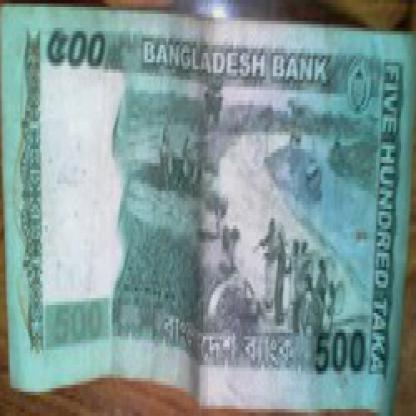500 taka: (27, 35, 118, 90), (313, 322, 371, 385)
currency: (2, 14, 409, 412)
